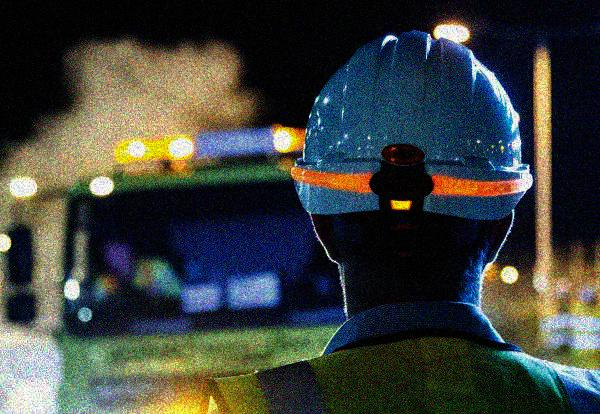helmet: (288, 23, 536, 294)
